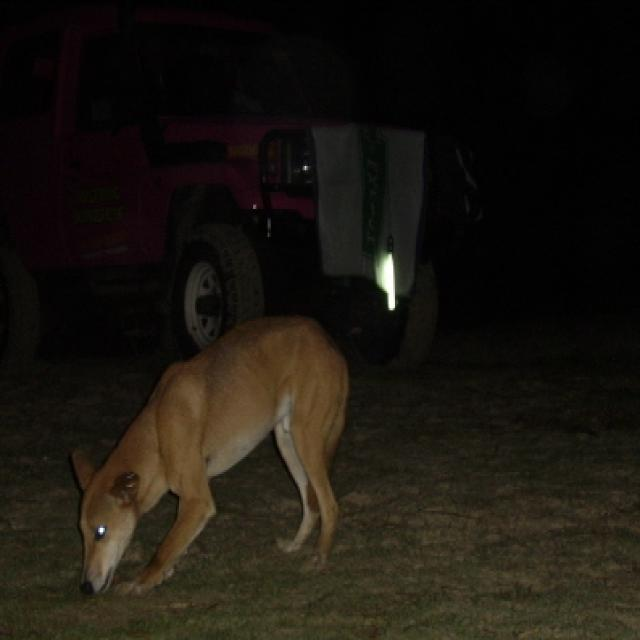dog: (37, 254, 384, 640)
